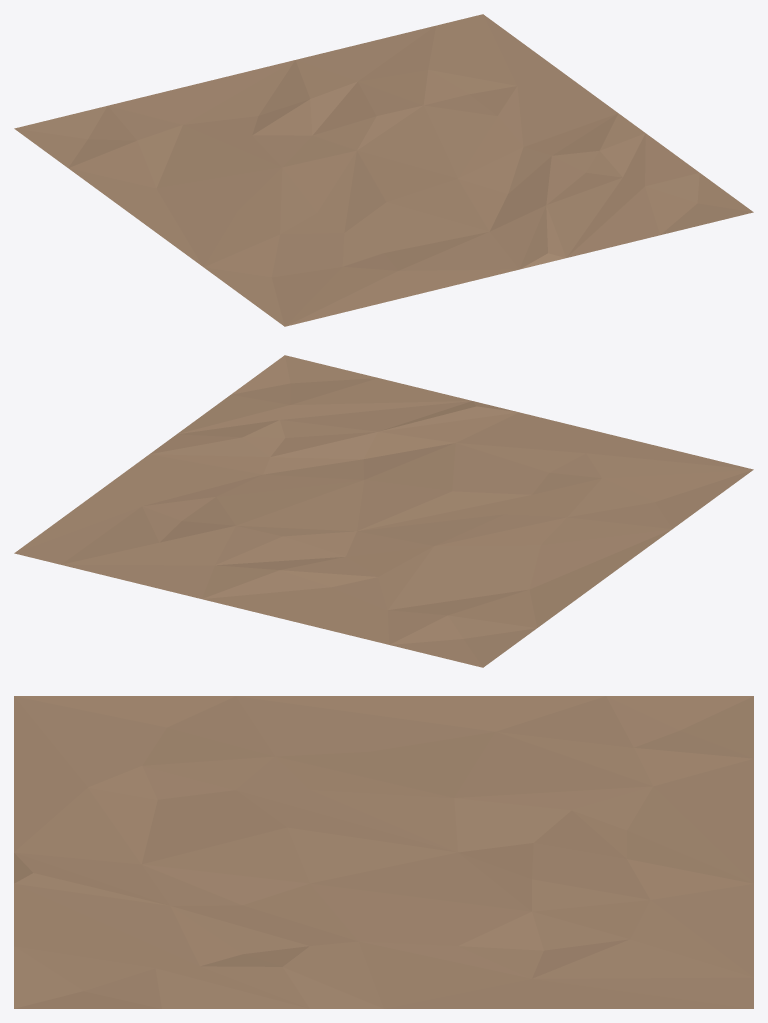
Rendered from TB_Env_Tile_Dirt_A.FBX.
3 views of the same model, one above another, from view 1: azimuth 30°, elevation 25°; view 2: azimuth 150°, elevation 25°; view 3: azimuth 270°, elevation 25° (orthographic). The views are drawn at different scales.
Visible parts, largest first — view 1: TB_Env_Tile_Dirt_A; view 2: TB_Env_Tile_Dirt_A; view 3: TB_Env_Tile_Dirt_A.
Boxes of the visible parts, box(x1,y1,x2,y2) form: TB_Env_Tile_Dirt_A: box(14, 14, 753, 326); TB_Env_Tile_Dirt_A: box(14, 355, 753, 667); TB_Env_Tile_Dirt_A: box(14, 696, 753, 1008).
Size of the model in its own units: 20 by 0.2724 by 20.
